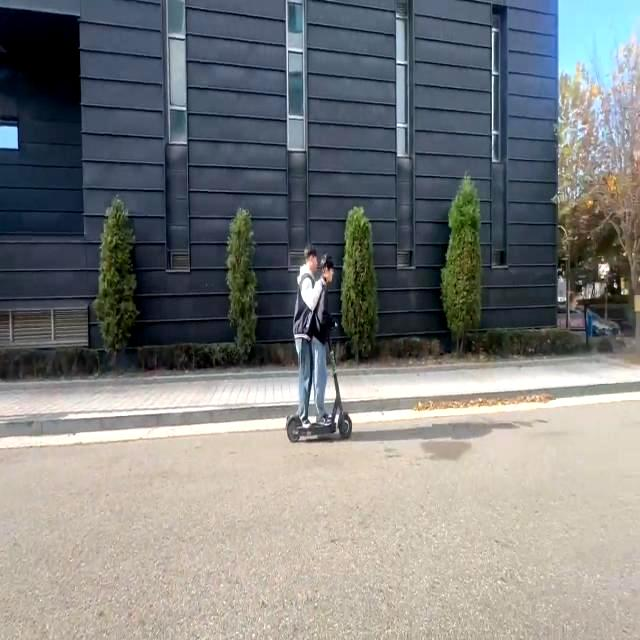bare_head: (312, 249, 339, 287), (295, 242, 321, 275)
human: (283, 244, 317, 433), (305, 247, 339, 425)
kickboard: (278, 406, 359, 450)
